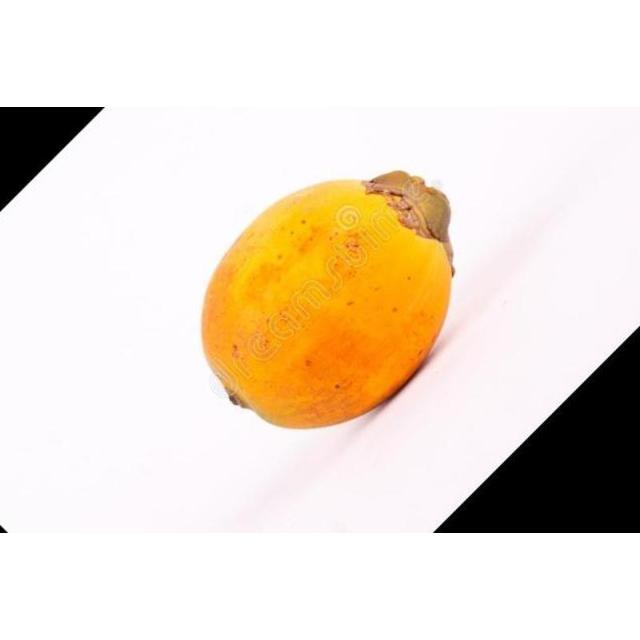good: (198, 171, 454, 432)
